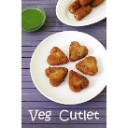cutlet: (48, 45, 69, 66), (70, 69, 89, 92), (46, 66, 68, 85), (69, 40, 88, 60), (78, 58, 98, 74)
